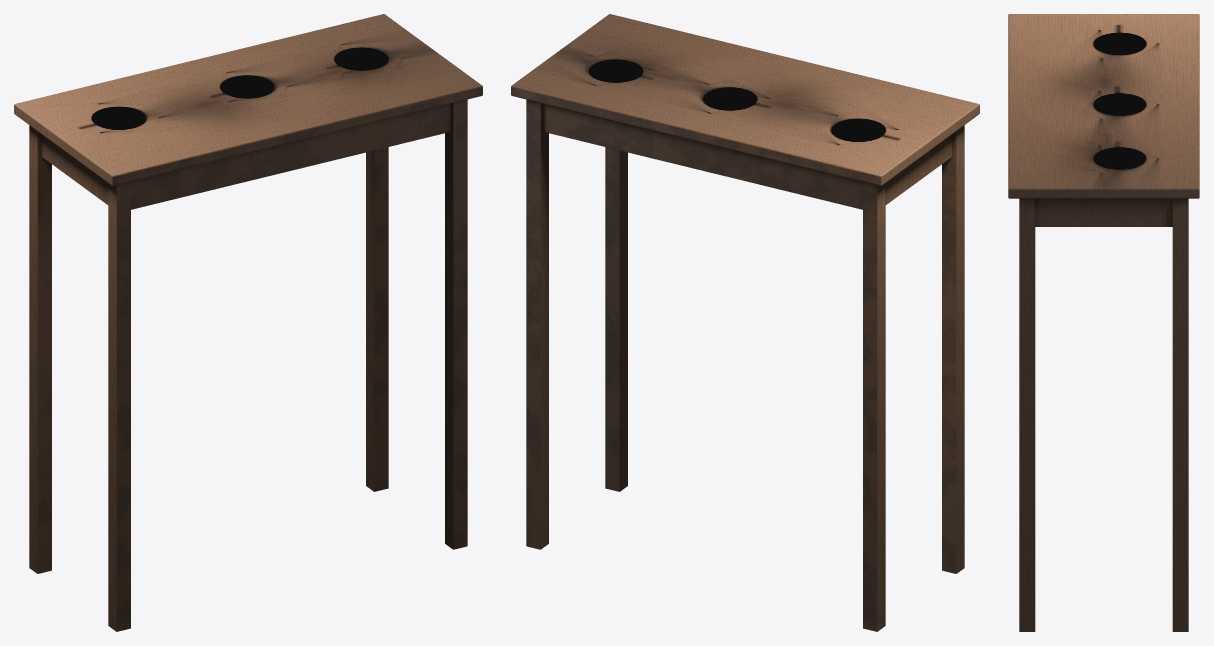
Rendered from 812_metal.glb.
3 renders of one model, left to right at view 1: azimuth 30°, elevation 25°; view 2: azimuth 150°, elevation 25°; view 3: azimuth 270°, elevation 25°, orthographic. The views are drawn at different scales.
Parts seen in each view (by area): view 1: Table; view 2: Table; view 3: Table.
Boxes of the visible parts, x1,y1,x2,y2 form: Table: [14, 14, 482, 631]; Table: [511, 14, 979, 631]; Table: [1008, 14, 1199, 631].
Size of what is drawn, in the model's own units: 2.6 by 3.1 by 1.2.
1 material, 1 textured.
